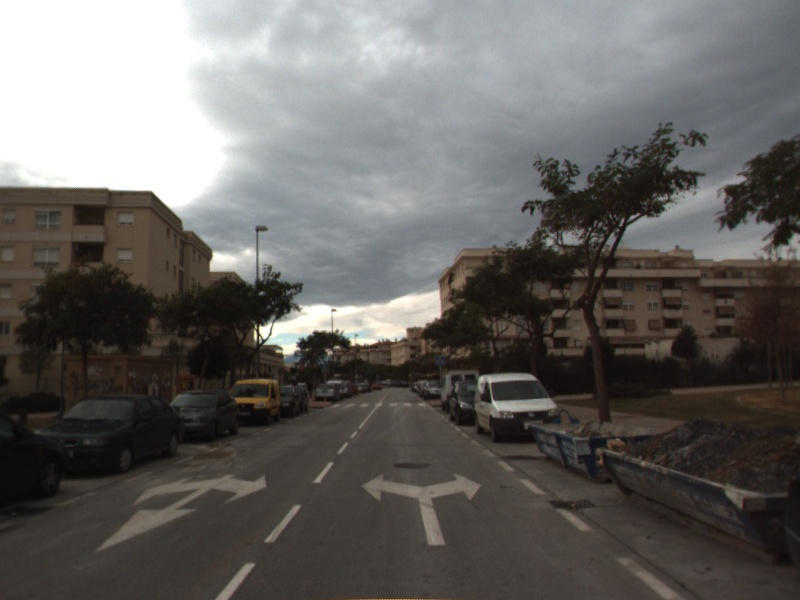LEFT_RIGHT: (358, 471, 484, 548)
